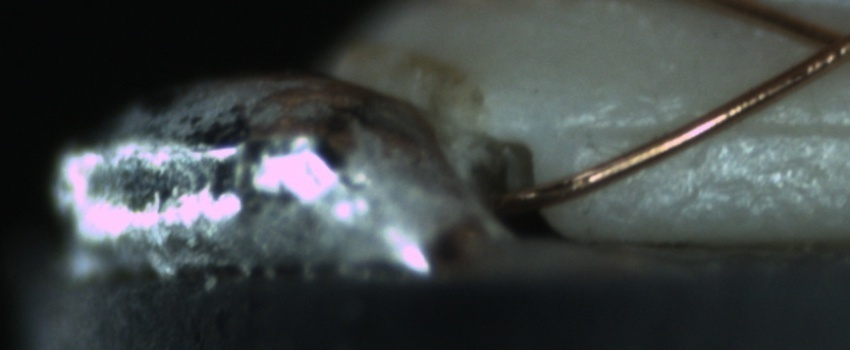CL: (797, 14, 850, 74)
DL: (572, 95, 847, 161)
